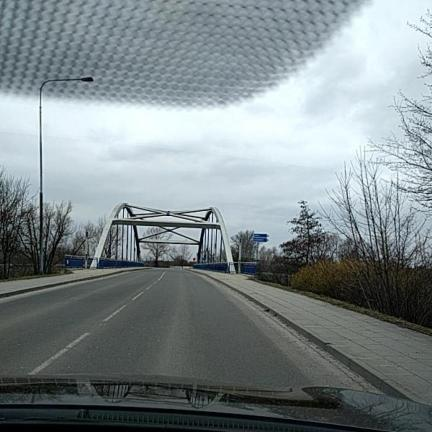Road: (0, 269, 368, 388)
